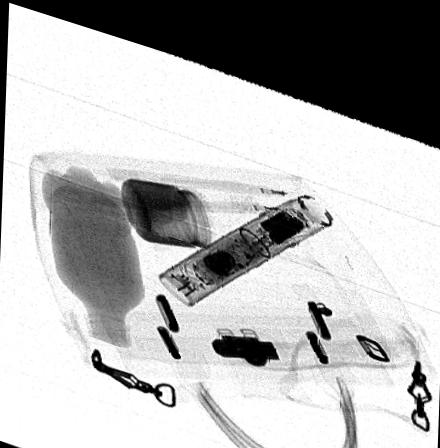Baton: (157, 173, 331, 296)
